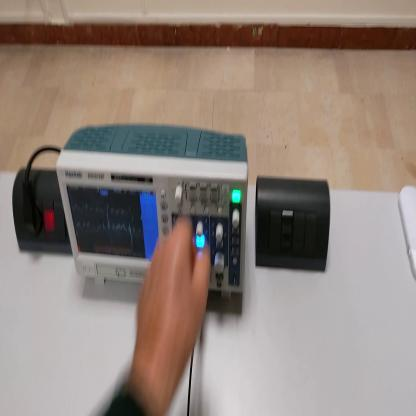hand: (132, 215, 212, 383)
oscilloscope: (57, 117, 251, 296)
socket: (11, 170, 74, 258)
